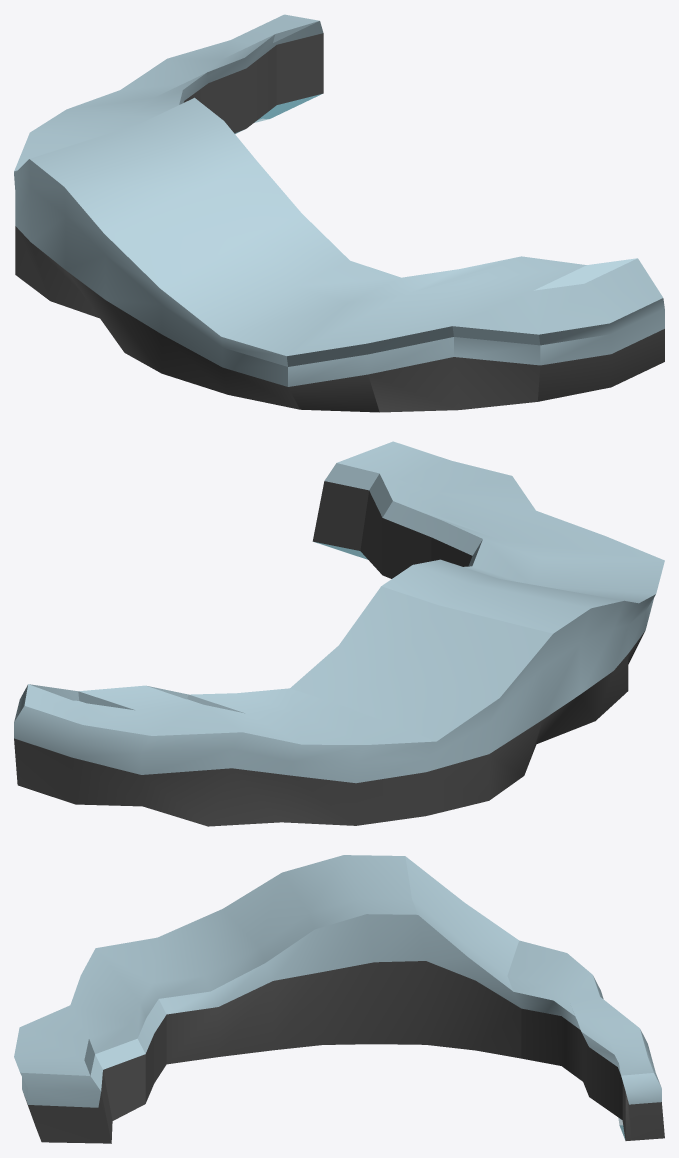
Rendered from snow4.fbx.
3 renders of one model, top to bottom at view 1: azimuth 30°, elevation 25°; view 2: azimuth 150°, elevation 25°; view 3: azimuth 270°, elevation 25°, orthographic. The views are drawn at different scales.
Visible parts, largest first — view 1: frozen_lake.002; view 2: frozen_lake.002; view 3: frozen_lake.002.
Part boxes in pixels (<box>): frozen_lake.002: <box>14,14,664,412</box>; frozen_lake.002: <box>14,441,664,826</box>; frozen_lake.002: <box>14,855,664,1143</box>.
Size of the model in its own units: 404 by 148 by 637.
